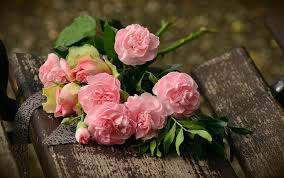rose: (37, 21, 199, 150)
